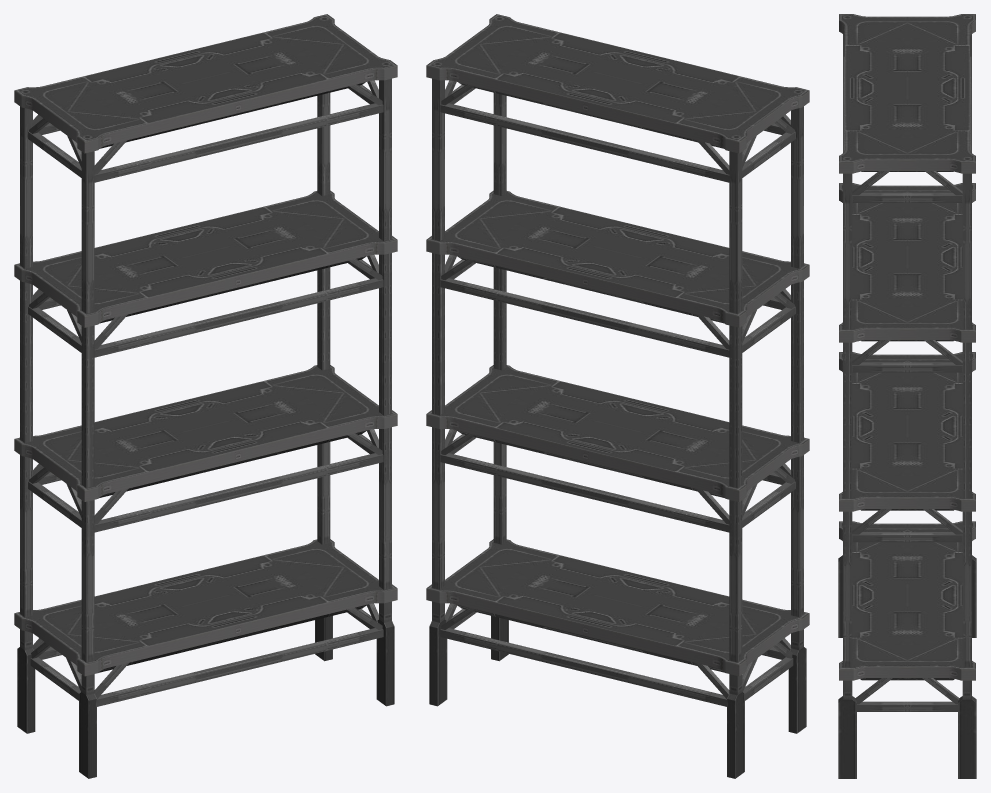
3 views of the same model, side by side, from view 1: azimuth 30°, elevation 25°; view 2: azimuth 150°, elevation 25°; view 3: azimuth 270°, elevation 25° (orthographic). The views are drawn at different scales.
Visible parts, largest first — view 1: Prop_Shelves_ThinTall; view 2: Prop_Shelves_ThinTall; view 3: Prop_Shelves_ThinTall.
Boxes of the visible parts, bbox=[...] form: Prop_Shelves_ThinTall: bbox=[14, 14, 397, 778]; Prop_Shelves_ThinTall: bbox=[426, 14, 809, 778]; Prop_Shelves_ThinTall: bbox=[838, 14, 976, 778].
Bounding box in the file's own units: 0.9613 × 1.87 × 0.3787.
1 material, 1 textured.
